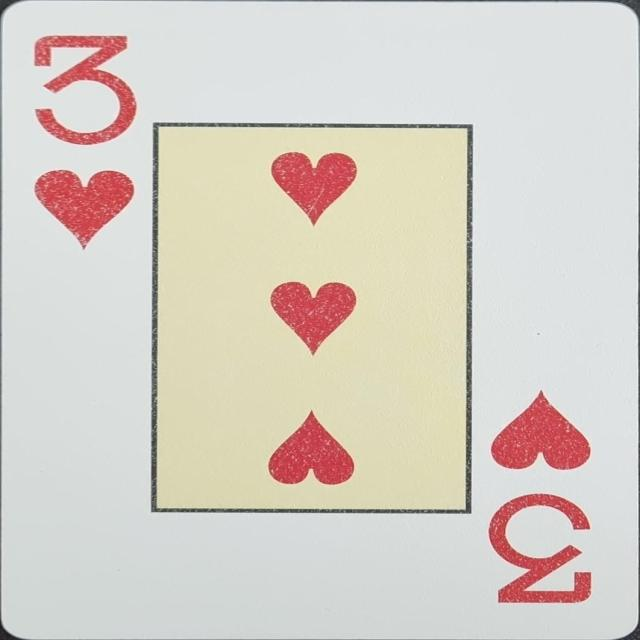3h: (487, 388, 597, 610), (30, 29, 136, 250)
